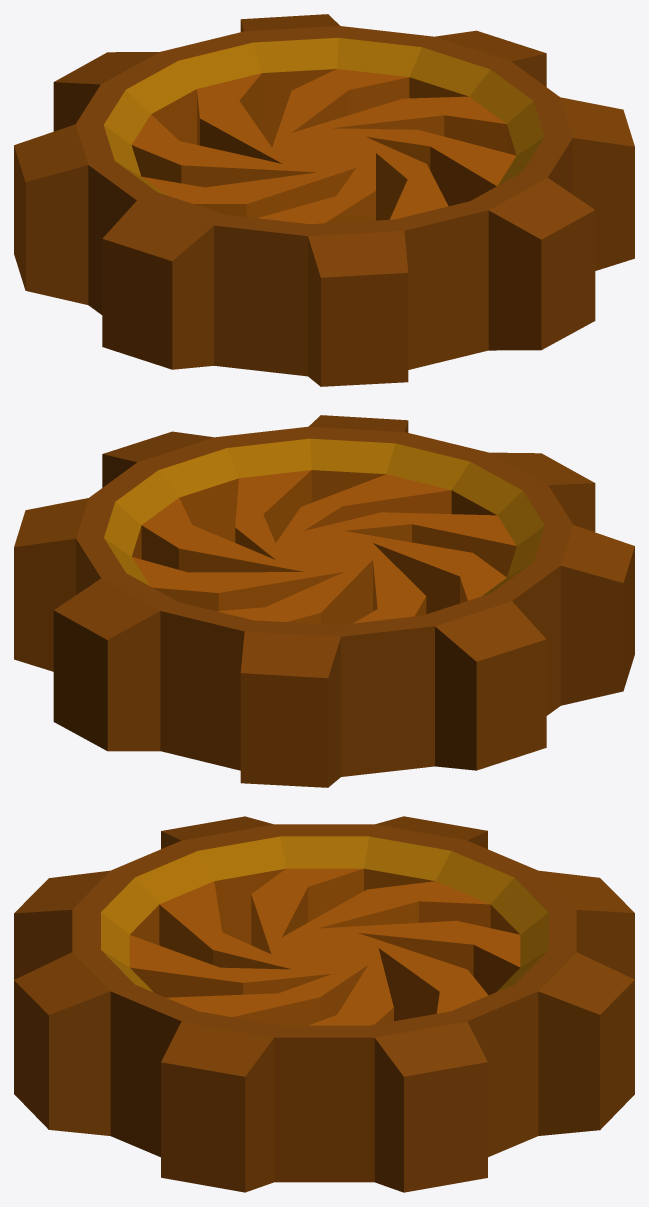
File: Gear 8 Teeth.glb
3 views of the same model, one above another, from view 1: azimuth 30°, elevation 25°; view 2: azimuth 150°, elevation 25°; view 3: azimuth 270°, elevation 25° (orthographic). The views are drawn at different scales.
Parts seen in each view (by area): view 1: Gear8Teeth; view 2: Gear8Teeth; view 3: Gear8Teeth.
Boxes of the visible parts, x1,y1,x2,y2 form: Gear8Teeth: [14, 14, 634, 386]; Gear8Teeth: [14, 415, 634, 787]; Gear8Teeth: [14, 816, 634, 1192].
Size of what is drawn, in the model's own units: 1.93 by 0.4968 by 1.93.
Materials: 1 (1 with a texture image).
